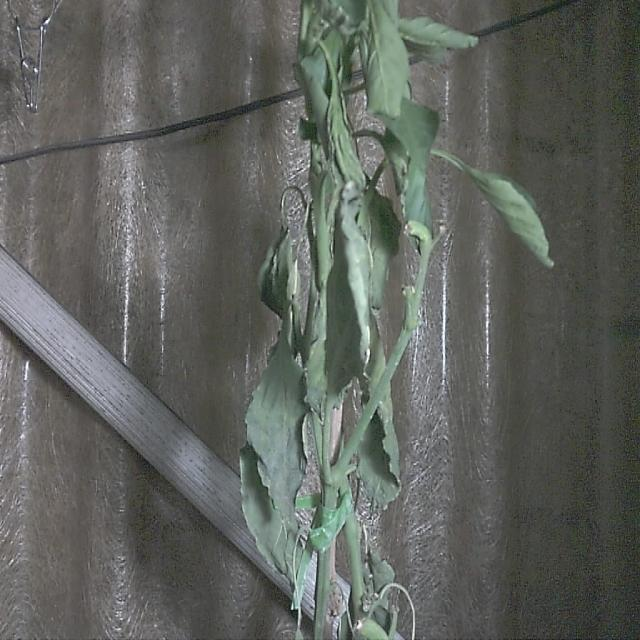Leaf: (244, 343, 310, 528)
